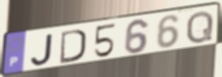5: (93, 22, 118, 59)
6: (123, 17, 150, 55), (155, 13, 181, 52)
D: (59, 28, 88, 65)
J: (30, 33, 55, 67)
Q: (184, 9, 215, 45)
